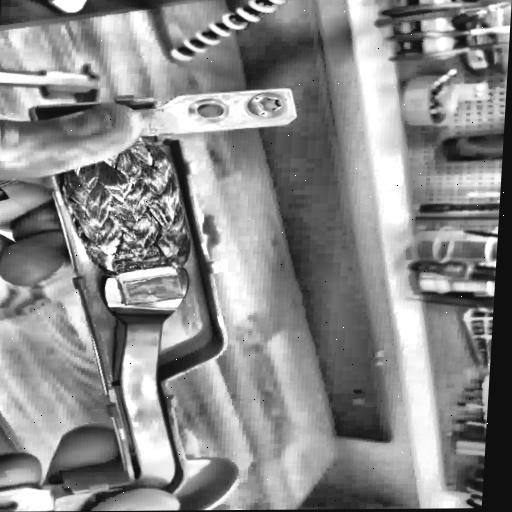busbar: (0, 85, 302, 512)
